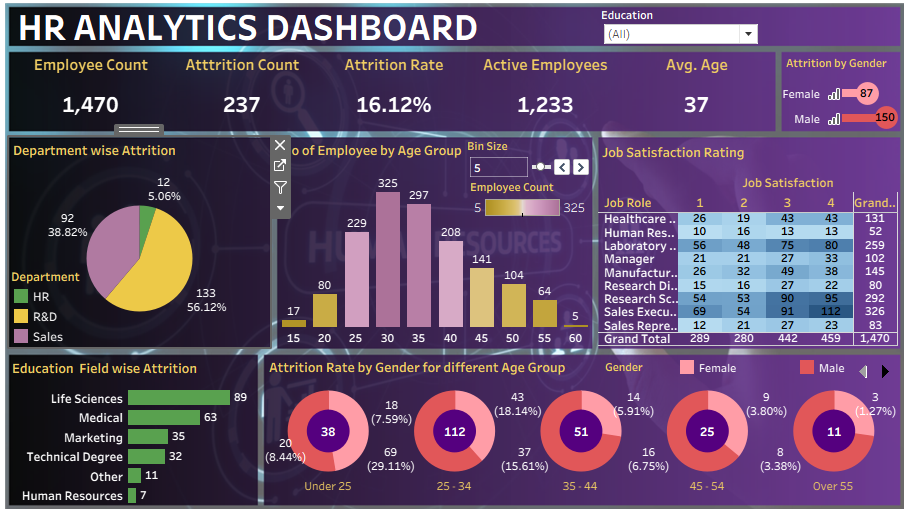

Layout of this report page (visuals, bound fields, positions):
{"tool":"tableau","page":{"name":"HR ANALYTICS DASHBOARD","canvas":[1000,1000],"units":"permille","ordinal":0},"visuals":[{"type":"image","param":"Image/HR background.pptx (1).png","box":[7.1,15.1,843.7,969.8]},{"type":"text","box":[38,29.1,495,72.7]},{"type":"filter","title":"Department wise Attrition","param":"[federated.0lz5h2015u4egz10g267k141svw3].[none:Education:nk]","box":[558.6,30.2,142.1,71.7]},{"type":"worksheet","title":"Attrition by Gender","mark":"Automatic","rows":["Gender"],"cols":["Calculation_0668001185267712","Calculation_0668001185267712"],"box":[719.4,113.2,104.8,149.1]},{"type":"worksheet","title":"KPI","mark":"Automatic","box":[38.2,115.1,673.2,150.9]},{"type":"worksheet","title":"Department wise Attrition","mark":"Pie","box":[32.9,275.5,231.8,396.2]},{"type":"worksheet","title":"No of Employee by Age Group","mark":"Automatic","rows":["Employee Count"],"cols":["Age (bin)"],"box":[271.8,275.5,278.9,396.2]},{"type":"parameter","param":"[Parameters].[Parameter 0073715421511680]","box":[439.6,277.4,111,77.4]},{"type":"worksheet","title":"Job Satisfaction Rating","mark":"Square","rows":["Job Role"],"cols":["Job Satisfaction"],"box":[556,279.2,266.4,390.6]},{"type":"legend","title":"No of Employee by Age Group","param":"[federated.0lz5h2015u4egz10g267k141svw3].[sum:Employee Count:qk]","box":[442.3,354.7,106.6,75.5]},{"type":"legend","title":"Department wise Attrition","param":"[federated.0lz5h2015u4egz10g267k141svw3].[none:Department:nk]","box":[34.6,522.6,76.4,149.1]},{"type":"worksheet","title":"Attrition Rate by Gender for different Age Group","mark":"Pie","rows":["Calculation_0717479553839105","Calculation_0717479553839105"],"cols":["CF_age band"],"box":[260.2,684.9,562.2,283]},{"type":"worksheet","title":"Education  Field wise Attrition","mark":"Automatic","rows":["Education Field"],"cols":["Calculation_0668001185267712"],"box":[32,686.8,222,283]},{"type":"legend","title":"Attrition Rate by Gender for different Age Group","param":"[federated.0lz5h2015u4egz10g267k141svw3].[none:Gender:nk]","box":[562.2,690.6,260.2,54.7]}]}

Visuals, with their boxes on the dashboard's canvas, which has no fixed pixel size, in thousandths of its width and height (x1, y1, x2, y2). These are canvas units, not pixel positions in the 908x512 screenshot, which may show the page scaled, cropped or inside an application window:
image: <box>7,15,851,985</box>
text: <box>38,29,533,102</box>
"Department wise Attrition" filter: <box>559,30,701,102</box>
"Attrition by Gender" worksheet: <box>719,113,824,262</box>
"KPI" worksheet: <box>38,115,711,266</box>
"Department wise Attrition" worksheet (Pie marks): <box>33,276,265,672</box>
"No of Employee by Age Group" worksheet: <box>272,276,551,672</box>
parameter: <box>440,277,551,355</box>
"Job Satisfaction Rating" worksheet (Square marks): <box>556,279,822,670</box>
"No of Employee by Age Group" legend: <box>442,355,549,430</box>
"Department wise Attrition" legend: <box>35,523,111,672</box>
"Attrition Rate by Gender for different Age Group" worksheet (Pie marks): <box>260,685,822,968</box>
"Education  Field wise Attrition" worksheet: <box>32,687,254,970</box>
"Attrition Rate by Gender for different Age Group" legend: <box>562,691,822,745</box>
